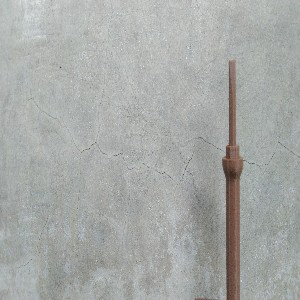obeng: (221, 58, 244, 300)
